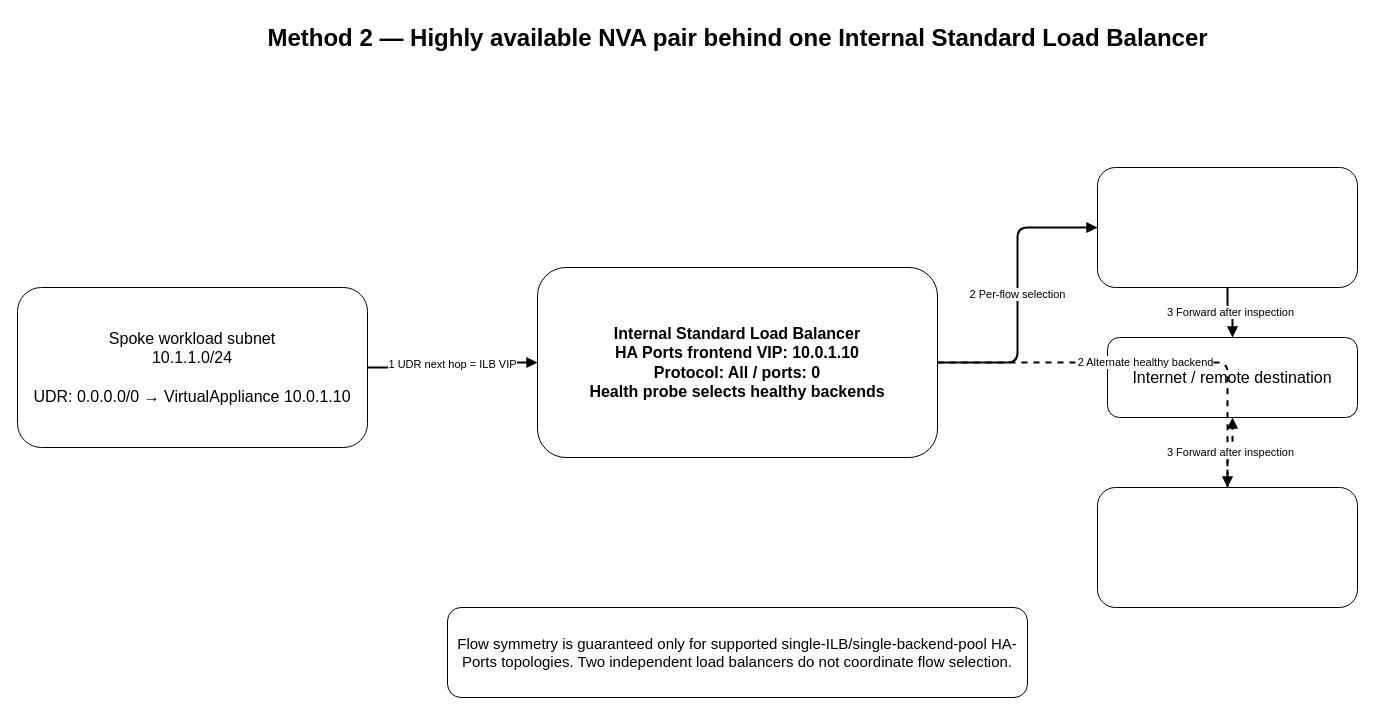
Some shapes in this 1375 by 715 pixel diagram are drawn without their labels. The shapes that lost their labels are listed below. From the top down, each one's box as (x1, y1, x2, y2) in pixels, then its label:
(1096, 166, 1358, 288): NVA-1 10.0.1.4 Backend pool
(1096, 486, 1358, 608): NVA-2 10.0.1.5 Backend pool
